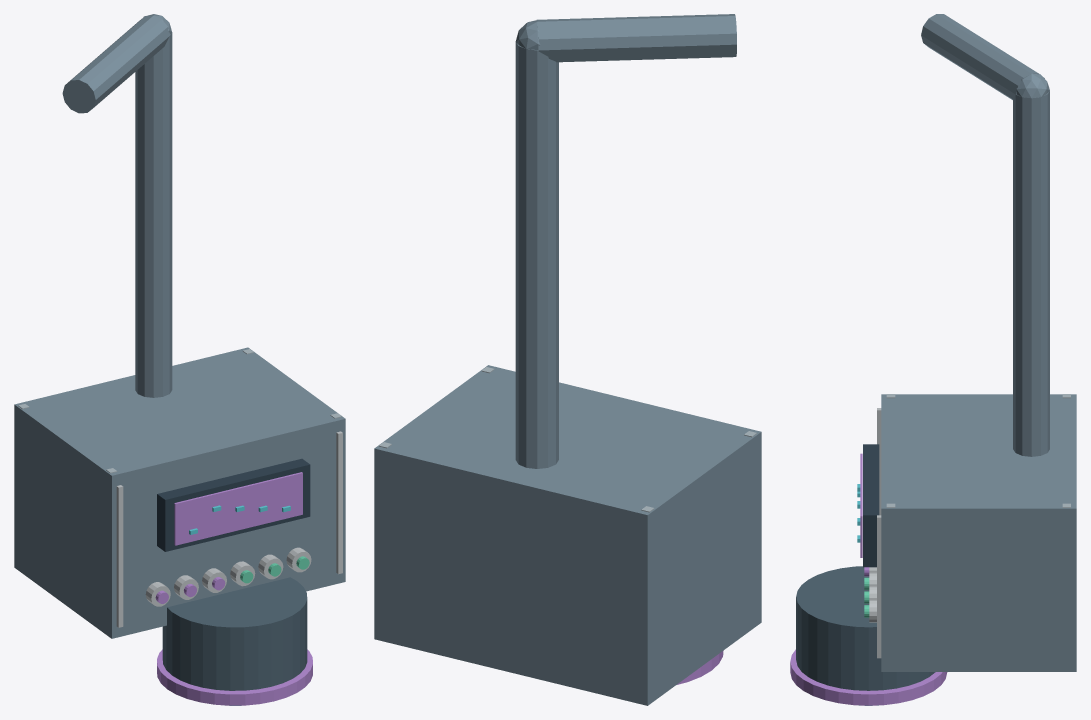
The model's file is 28_L79_FiducialOpticalCameraB.glb.
3 renders of one model, left to right at view 1: azimuth 30°, elevation 25°; view 2: azimuth 150°, elevation 25°; view 3: azimuth 270°, elevation 25°, orthographic. The views are drawn at different scales.
Visible parts, largest first — view 1: FiducialOpticalCameraB_Node_0000, FiducialOpticalCameraB_Node_0007, FiducialOpticalCameraB_Node_0029, FiducialOpticalCameraB_Node_0011, FiducialOpticalCameraB_Node_0030, FiducialOpticalCameraB_Node_0010, FiducialOpticalCameraB_Node_0008, FiducialOpticalCameraB_Node_0005, FiducialOpticalCameraB_Node_0006; view 2: FiducialOpticalCameraB_Node_0000, FiducialOpticalCameraB_Node_0029, FiducialOpticalCameraB_Node_0030; view 3: FiducialOpticalCameraB_Node_0000, FiducialOpticalCameraB_Node_0029, FiducialOpticalCameraB_Node_0007, FiducialOpticalCameraB_Node_0030, FiducialOpticalCameraB_Node_0008, FiducialOpticalCameraB_Node_0010, FiducialOpticalCameraB_Node_0006, FiducialOpticalCameraB_Node_0031.
Part boxes in pixels (x1,y1,x2,y2): FiducialOpticalCameraB_Node_0000: (14, 347, 345, 638); FiducialOpticalCameraB_Node_0007: (162, 577, 307, 690); FiducialOpticalCameraB_Node_0029: (135, 33, 172, 397); FiducialOpticalCameraB_Node_0011: (174, 472, 302, 545); FiducialOpticalCameraB_Node_0030: (62, 15, 170, 113); FiducialOpticalCameraB_Node_0010: (157, 458, 310, 551); FiducialOpticalCameraB_Node_0008: (157, 649, 312, 705); FiducialOpticalCameraB_Node_0005: (116, 485, 123, 627); FiducialOpticalCameraB_Node_0006: (336, 431, 342, 574); FiducialOpticalCameraB_Node_0000: (374, 365, 761, 705); FiducialOpticalCameraB_Node_0029: (515, 42, 558, 468); FiducialOpticalCameraB_Node_0030: (536, 14, 736, 62); FiducialOpticalCameraB_Node_0000: (881, 394, 1076, 671); FiducialOpticalCameraB_Node_0029: (1013, 91, 1049, 456); FiducialOpticalCameraB_Node_0007: (796, 566, 935, 690); FiducialOpticalCameraB_Node_0030: (921, 14, 1044, 99); FiducialOpticalCameraB_Node_0008: (790, 649, 947, 705); FiducialOpticalCameraB_Node_0010: (863, 444, 879, 567); FiducialOpticalCameraB_Node_0006: (877, 515, 881, 658); FiducialOpticalCameraB_Node_0031: (1016, 73, 1049, 98).
Bounding box in the file's own units: 1.15 × 2.7 × 1.14.
